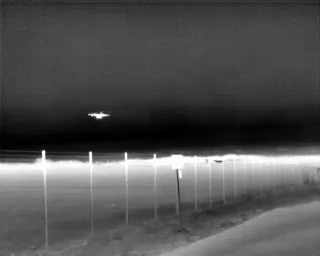AIRPLANE: (86, 109, 112, 122)
